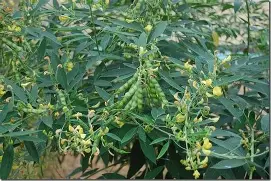crops: (0, 0, 267, 177), (105, 44, 167, 112)
